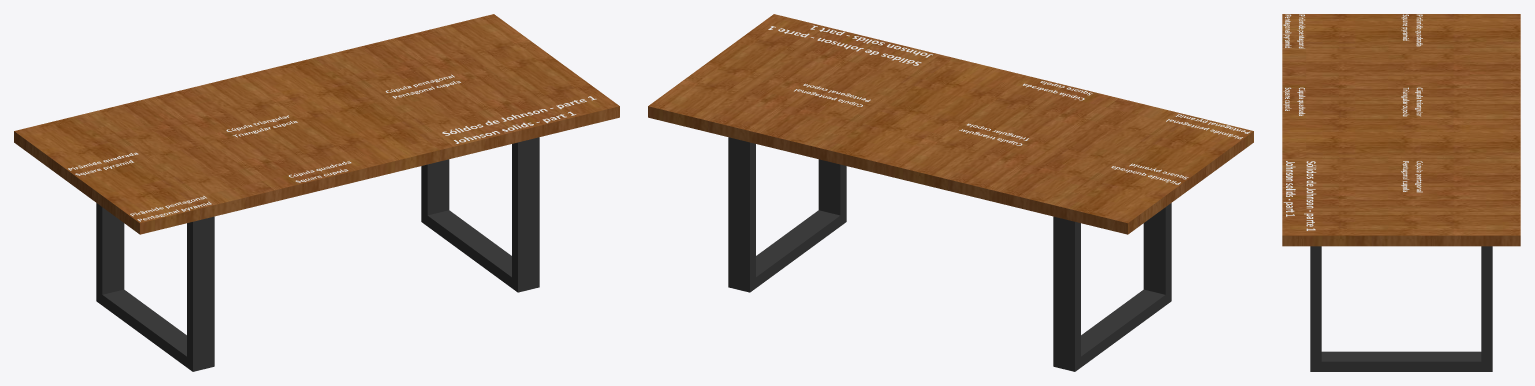
Rendered from johnson1a.glb.
The picture shows the model from 3 angles, left to right: view 1: azimuth 30°, elevation 25°; view 2: azimuth 150°, elevation 25°; view 3: azimuth 270°, elevation 25°; orthographic projection. The views are drawn at different scales.
Parts seen in each view (by area): view 1: object 1, Composant#1 (×2), Sólidos de Johns; view 2: object 1, Composant#1 (×2), Sólidos de Johns; view 3: object 1, Composant#1, Sólidos de Johns, Pirâmide pentago, Cúpula pentagona, Pirâmide quadrad, Cúpula triangula, Cúpula quadrada.
Boxes of the visible parts, left/top/right/bottom form: object 1: left=14, top=14, right=619, bottom=234; Composant#1 (×2): left=96, top=137, right=539, bottom=371; Sólidos de Johns: left=442, top=96, right=596, bottom=143; object 1: left=648, top=14, right=1253, bottom=234; Composant#1 (×2): left=728, top=137, right=1171, bottom=371; Sólidos de Johns: left=768, top=25, right=932, bottom=65; object 1: left=1282, top=14, right=1520, bottom=246; Composant#1: left=1310, top=246, right=1492, bottom=371; Sólidos de Johns: left=1283, top=161, right=1316, bottom=230; Pirâmide pentago: left=1283, top=14, right=1304, bottom=48; Cúpula pentagona: left=1401, top=161, right=1422, bottom=192; Pirâmide quadrad: left=1401, top=14, right=1422, bottom=46; Cúpula triangula: left=1401, top=87, right=1422, bottom=116; Cúpula quadrada: left=1283, top=87, right=1305, bottom=115.
Size of the model in its own units: 2.2 by 0.7711 by 1.
3 materials, 1 textured.
